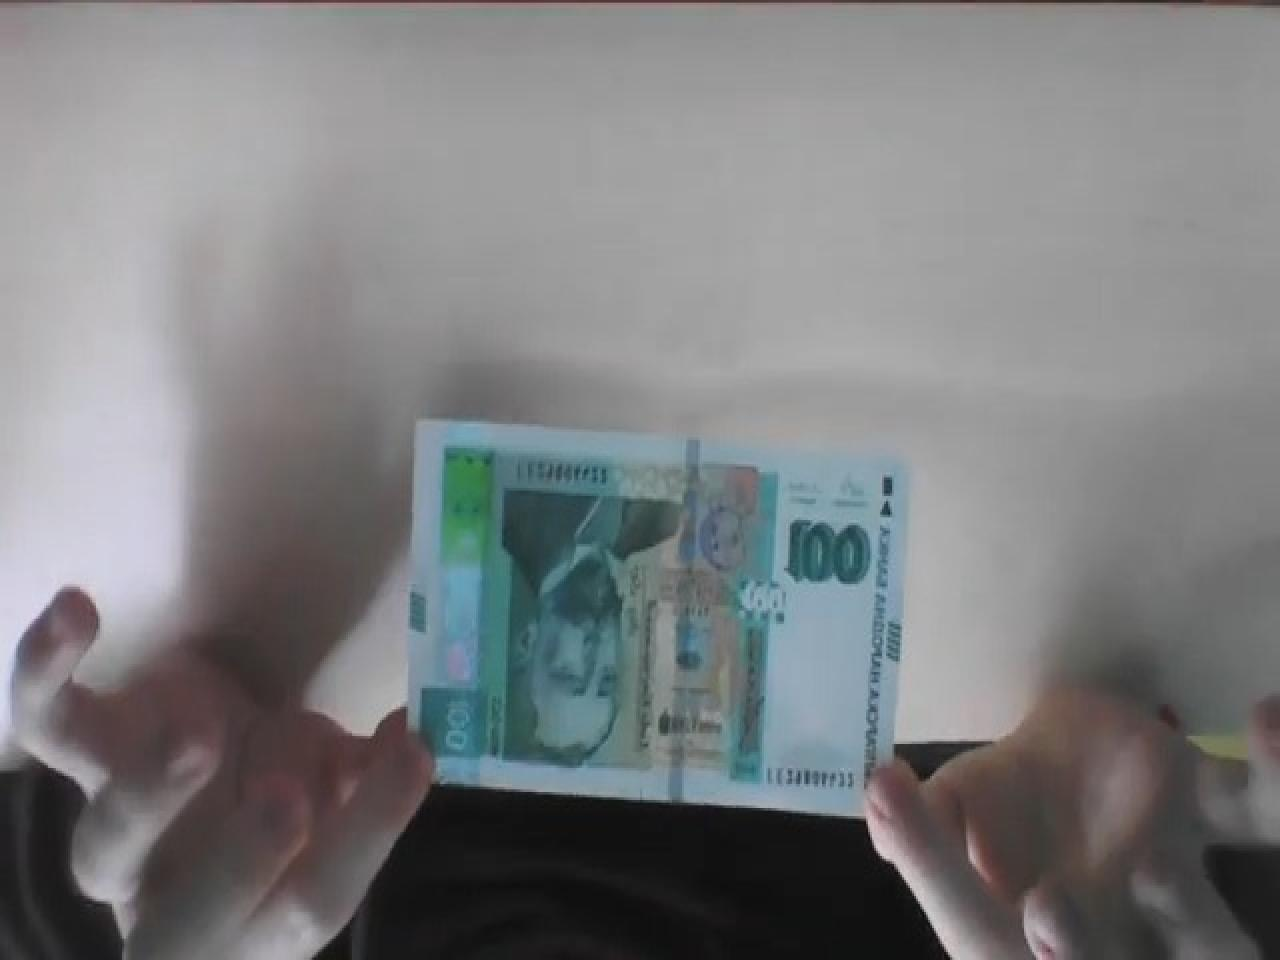100leva: (410, 424, 912, 814)
